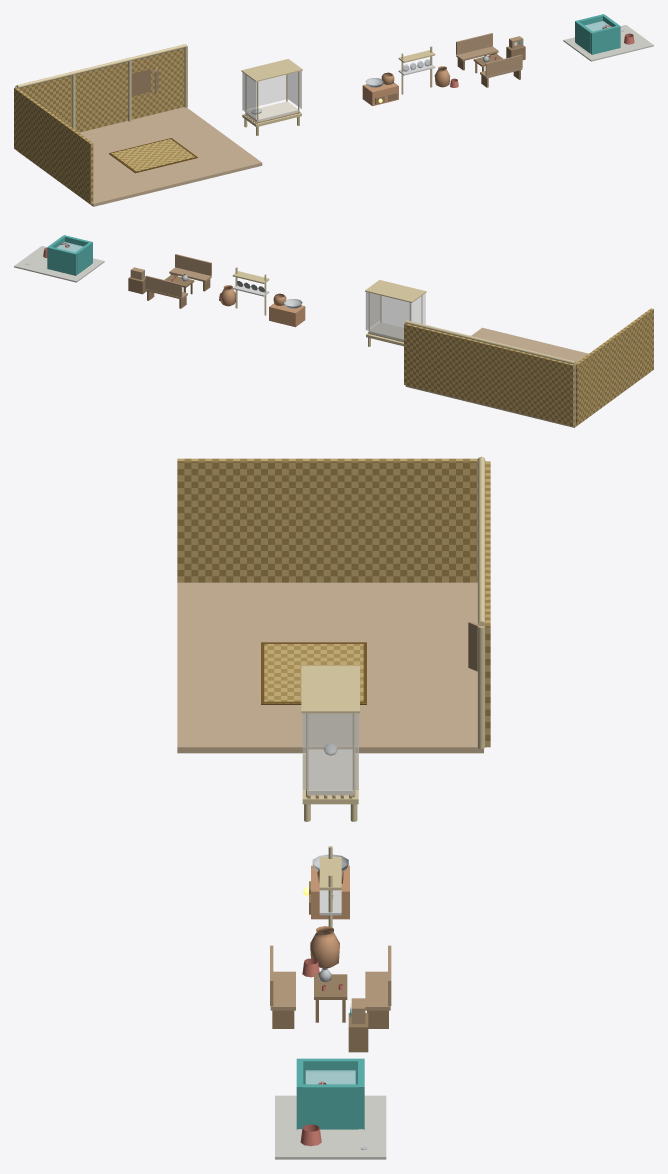
The model's file is kit-32-interior-rumah-sederhana.glb.
3 views of the same model, one above another, from view 1: azimuth 30°, elevation 25°; view 2: azimuth 150°, elevation 25°; view 3: azimuth 270°, elevation 25° (orthographic). The views are drawn at different scales.
Visible parts, largest first — view 1: RmhSdrIn_RuangGubuk, RmhSdrIn_DipanKelambu, RmhSdrIn_KamarMandi, RmhSdrIn_RuangTamu, RmhSdrIn_DapurKayu; view 2: RmhSdrIn_RuangGubuk, RmhSdrIn_DipanKelambu, RmhSdrIn_KamarMandi, RmhSdrIn_RuangTamu, RmhSdrIn_DapurKayu; view 3: RmhSdrIn_RuangGubuk, RmhSdrIn_KamarMandi, RmhSdrIn_DipanKelambu, RmhSdrIn_RuangTamu, RmhSdrIn_DapurKayu.
Boxes of the visible parts, box(x1,y1,x2,y2) form: RmhSdrIn_RuangGubuk: box(14, 44, 262, 206); RmhSdrIn_DipanKelambu: box(241, 59, 302, 135); RmhSdrIn_KamarMandi: box(563, 14, 653, 61); RmhSdrIn_RuangTamu: box(456, 33, 525, 87); RmhSdrIn_DapurKayu: box(362, 46, 458, 106); RmhSdrIn_RuangGubuk: box(404, 308, 653, 427); RmhSdrIn_DipanKelambu: box(365, 280, 426, 346); RmhSdrIn_KamarMandi: box(14, 235, 104, 282); RmhSdrIn_RuangTamu: box(128, 254, 211, 308); RmhSdrIn_DapurKayu: box(219, 267, 305, 327); RmhSdrIn_RuangGubuk: box(177, 456, 490, 753); RmhSdrIn_KamarMandi: box(275, 1058, 386, 1159); RmhSdrIn_DipanKelambu: box(301, 665, 359, 821); RmhSdrIn_RuangTamu: box(270, 945, 391, 1052); RmhSdrIn_DapurKayu: box(302, 846, 349, 977).
Bounding box in the file's own units: 24.37 × 2.62 × 5.62.
16 materials, 2 textured.
